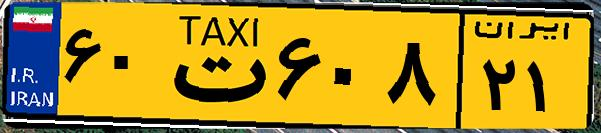0: (330, 28, 385, 110), (110, 28, 158, 98)
1: (525, 38, 570, 115)
2: (475, 38, 525, 113)
6: (270, 28, 330, 110), (57, 26, 110, 100)
8: (385, 28, 445, 110)
ت: (158, 12, 270, 120)
